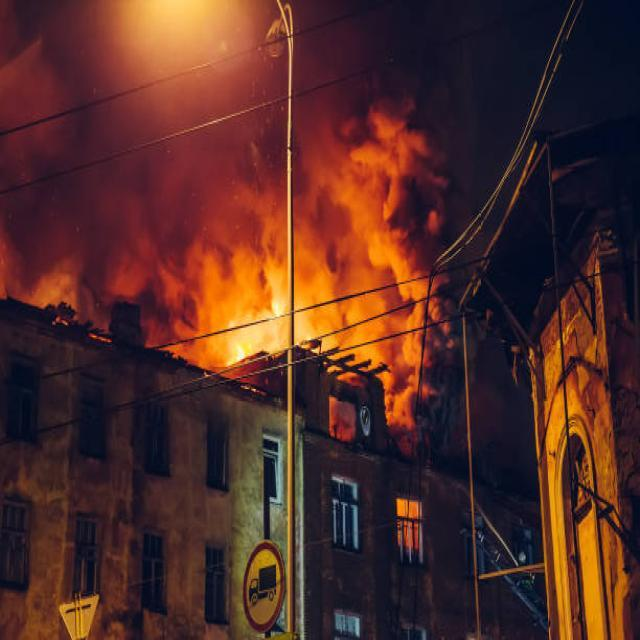Fire: (220, 292, 298, 370), (394, 500, 419, 553)
Smoke: (362, 33, 474, 450), (198, 200, 392, 382)
